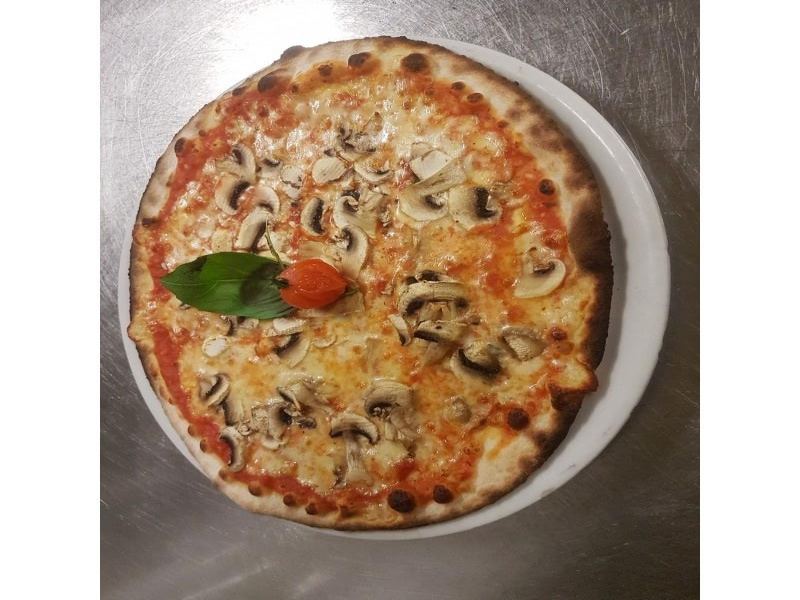champignon: (328, 412, 397, 492), (505, 242, 568, 309), (319, 226, 378, 283), (397, 178, 459, 223), (208, 171, 253, 220), (192, 368, 234, 410)
